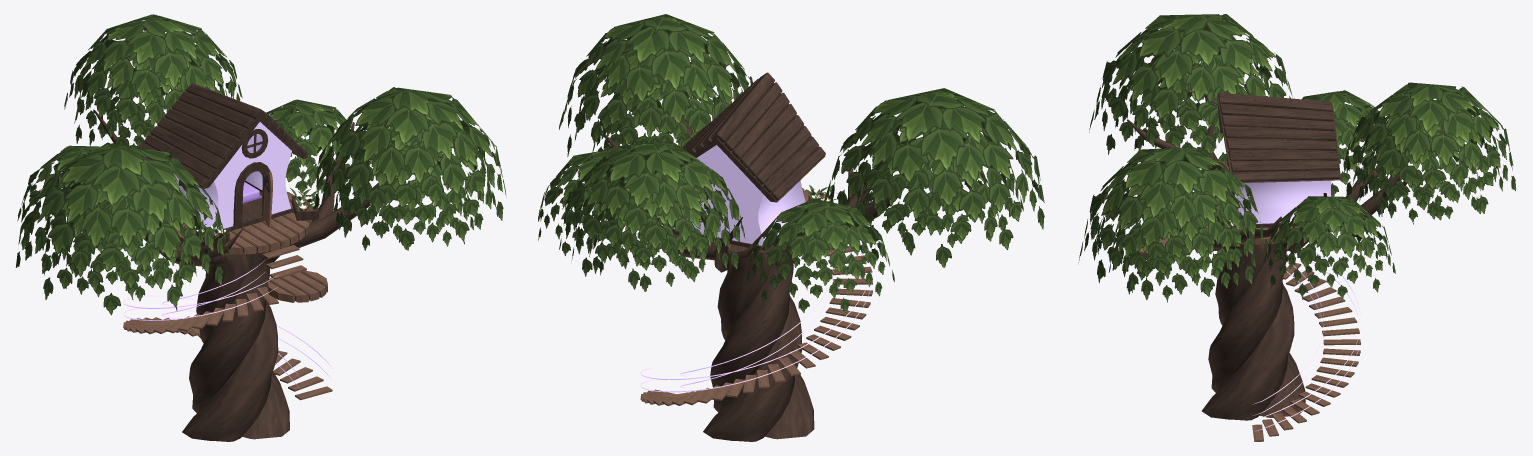
Rendered from treeHouse.glb.
3 renders of one model, left to right at view 1: azimuth 30°, elevation 25°; view 2: azimuth 150°, elevation 25°; view 3: azimuth 270°, elevation 25°, orthographic. The views are drawn at different scales.
Parts seen in each view (by area): view 1: TreeHousePurple1; view 2: TreeHousePurple1; view 3: TreeHousePurple1.
Part boxes in pixels (left/top/right/bottom): TreeHousePurple1: left=15, top=14, right=506, bottom=441; TreeHousePurple1: left=538, top=14, right=1044, bottom=441; TreeHousePurple1: left=1078, top=14, right=1516, bottom=441.
Size of what is drawn, in the model's own units: 21.81 by 15.2 by 18.95.
9 materials, 9 textured.
